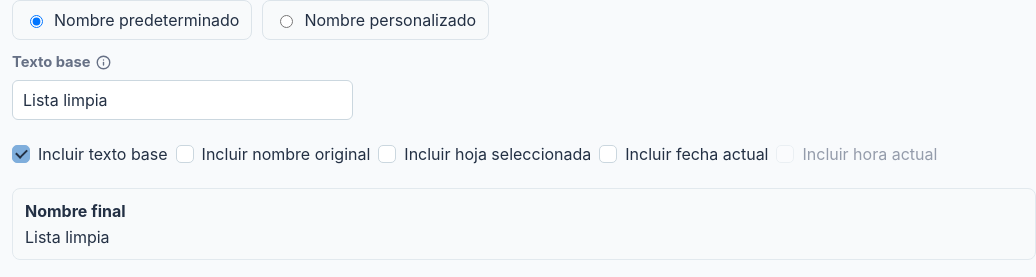
Test: FileNameSettings › explains disabled time option until date is enabled
Hover over the text "Incluir hora actual" at [857, 154], box [776, 144, 937, 164]
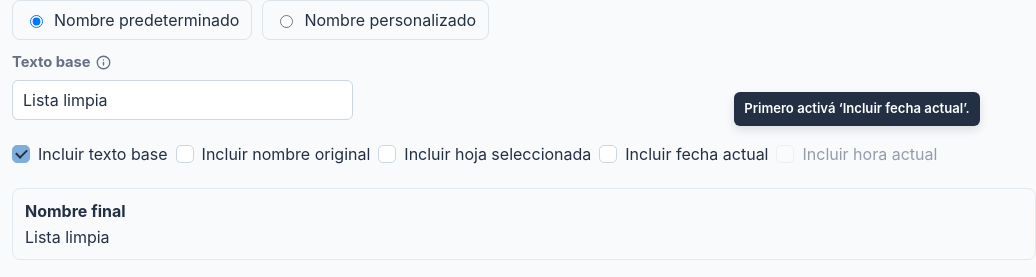
Expected: the tooltip "Primero activá ‘Incluir fecha actual’." is shown, [734, 92, 980, 126]
Click the checkbox labelled "Incluir fecha actual" at [608, 154], box [599, 145, 617, 163]
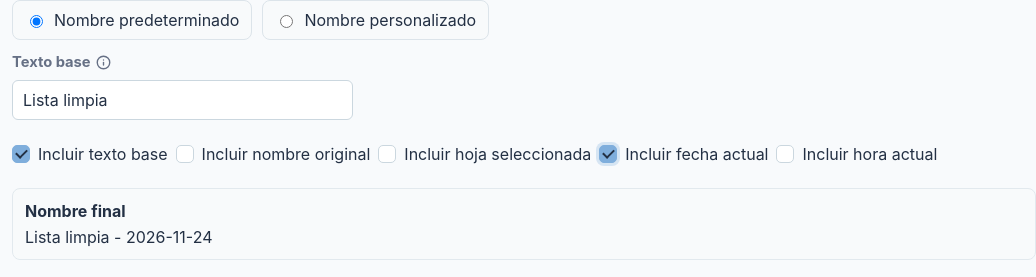
Expected: the checkbox labelled "Incluir hora actual" is enabled, [776, 145, 794, 163]
